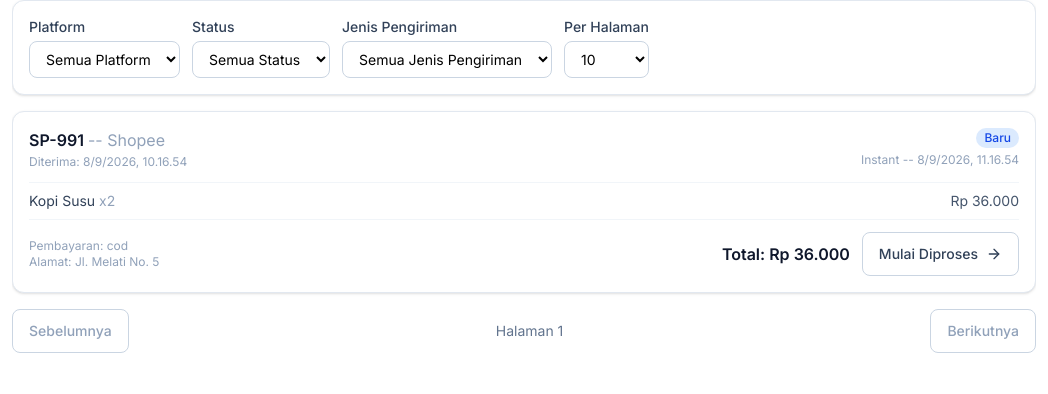
OrdersPage › Update Status gagal -- inline error, bukan window.alert (Task 6) › retry -- klik lagi membersihkan error lama sebelum request baru, sukses menghapus errornya
The image size is (1048, 394).
Step 1. Click the button "Mulai Diproses" → click(940, 254), box x1=862 y1=232 x2=1019 y2=276
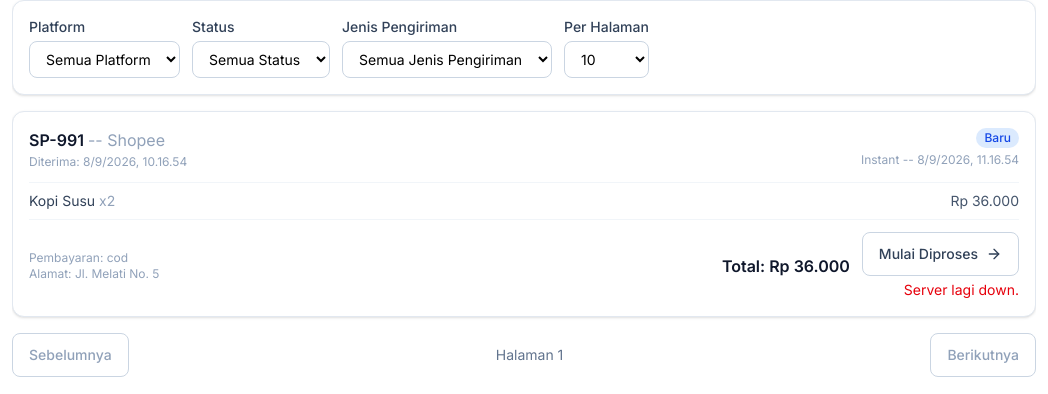
Expected: the text "Server lagi down." is shown, x1=904 y1=280 x2=1019 y2=300
Step 2. Click the button "Mulai Diproses" → click(940, 254), box x1=862 y1=232 x2=1019 y2=276
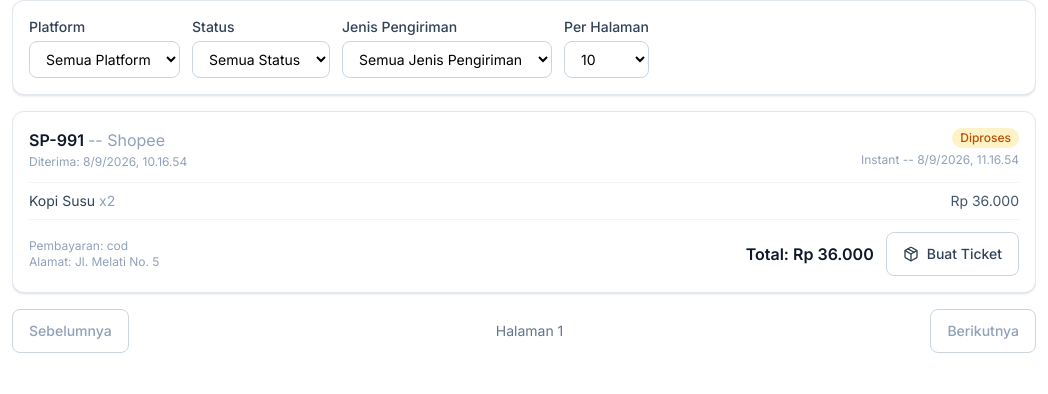
Expected: the text "Server lagi down." is gone
